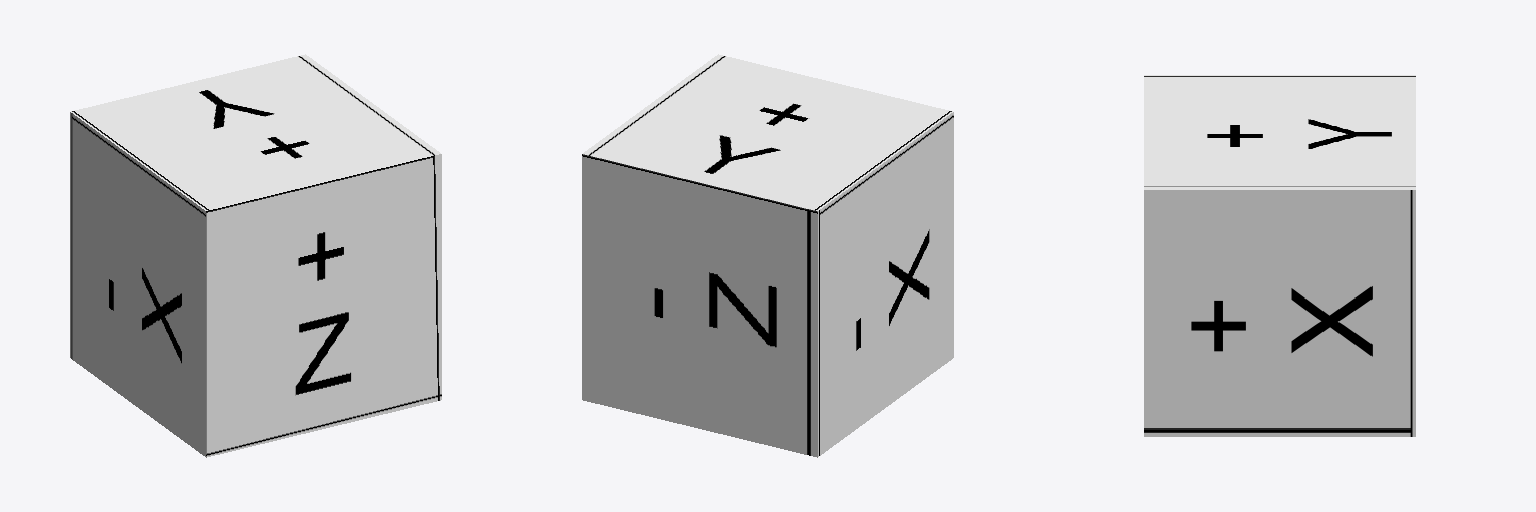
The picture shows the model from 3 angles: view 1: azimuth 30°, elevation 25°; view 2: azimuth 150°, elevation 25°; view 3: azimuth 270°, elevation 25°; orthographic projection.
Visible parts, largest first — view 1: Cube; view 2: Cube; view 3: Cube.
Boxes of the visible parts, x1,y1,x2,y2 form: Cube: [70, 54, 441, 457]; Cube: [582, 54, 953, 457]; Cube: [1144, 75, 1415, 436].
Bounding box in the file's own units: 0.05 × 0.05 × 0.05.
Materials: 1 (1 with a texture image).